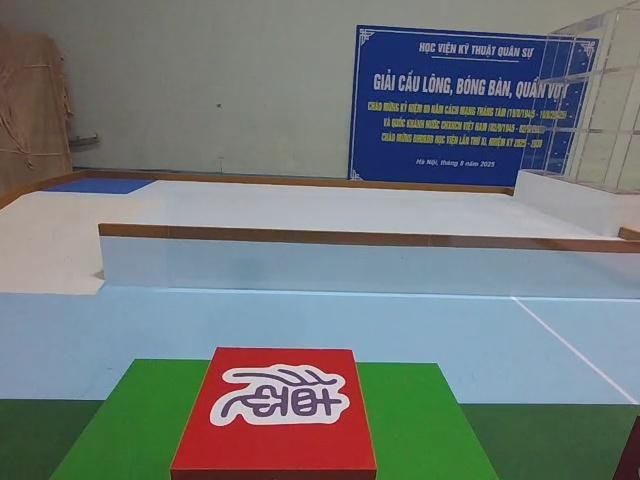R2 Fake: (171, 344, 378, 480)
